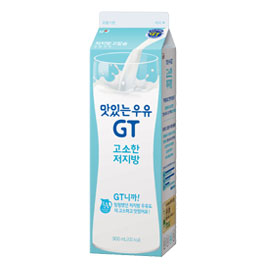milk: (88, 12, 177, 258)
